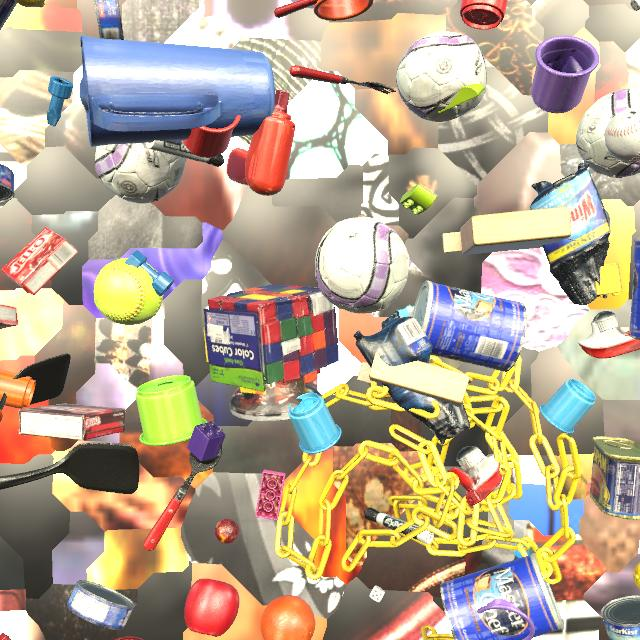ycb_002_master_chef_can: (440, 553, 564, 640), (412, 281, 527, 372), (629, 236, 640, 340)
ycb_007_tuna_fish_can: (67, 580, 135, 630), (601, 595, 640, 640), (566, 209, 611, 241), (94, 0, 124, 40), (0, 164, 14, 203)
ycb_008_pudding_box: (18, 403, 126, 441)
ycb_009_gelatin_box: (2, 227, 78, 295), (0, 304, 18, 329)
ycb_010_potted_meat_can: (590, 436, 640, 520), (0, 0, 17, 30)
ycb_013_apple: (184, 578, 240, 637)
ycb_014_lemon: (14, 0, 45, 8), (633, 562, 640, 590)
ycb_017_orange: (260, 595, 315, 640)
